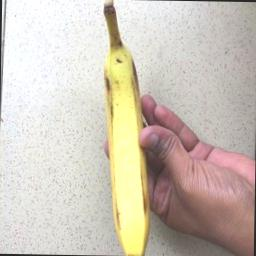Banana Ripe: (85, 34, 169, 256)
